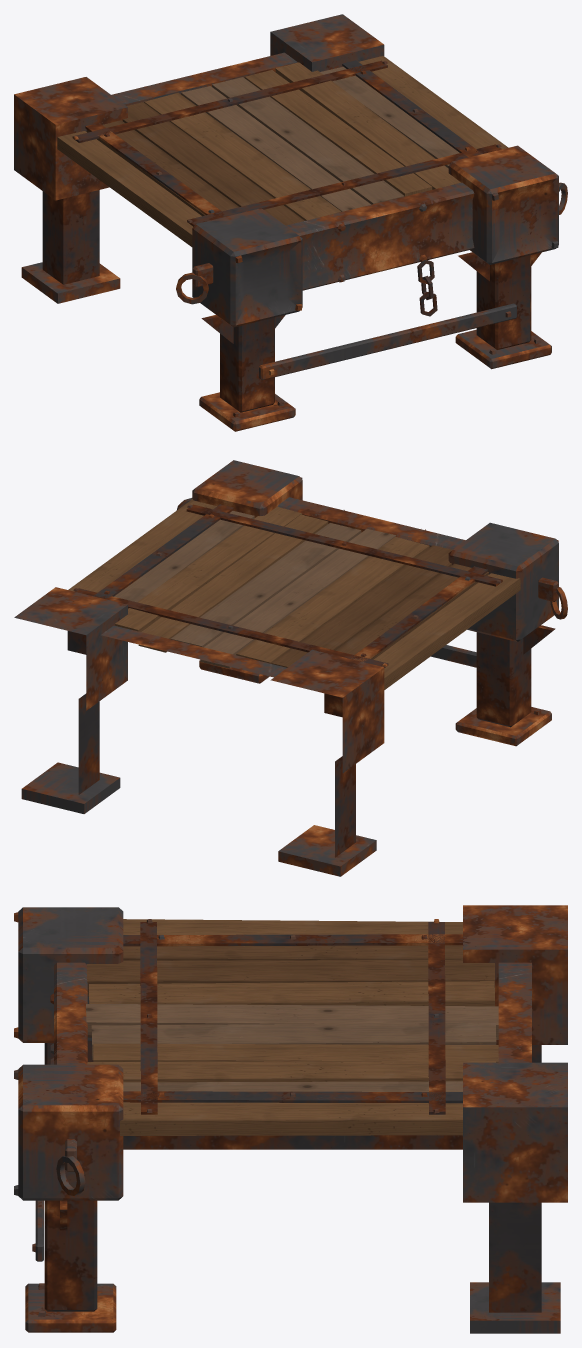
Rendered from Platform_S.glb.
3 views of the same model, one above another, from view 1: azimuth 30°, elevation 25°; view 2: azimuth 150°, elevation 25°; view 3: azimuth 270°, elevation 25° (orthographic). The views are drawn at different scales.
Parts seen in each view (by area): view 1: Platform_S; view 2: Platform_S; view 3: Platform_S.
Boxes of the visible parts, x1,y1,x2,y2 form: Platform_S: [14, 14, 567, 431]; Platform_S: [14, 460, 567, 876]; Platform_S: [14, 905, 567, 1333].
Size of the model in its own units: 2.39 by 1.06 by 2.32.
4 materials, 4 textured.
